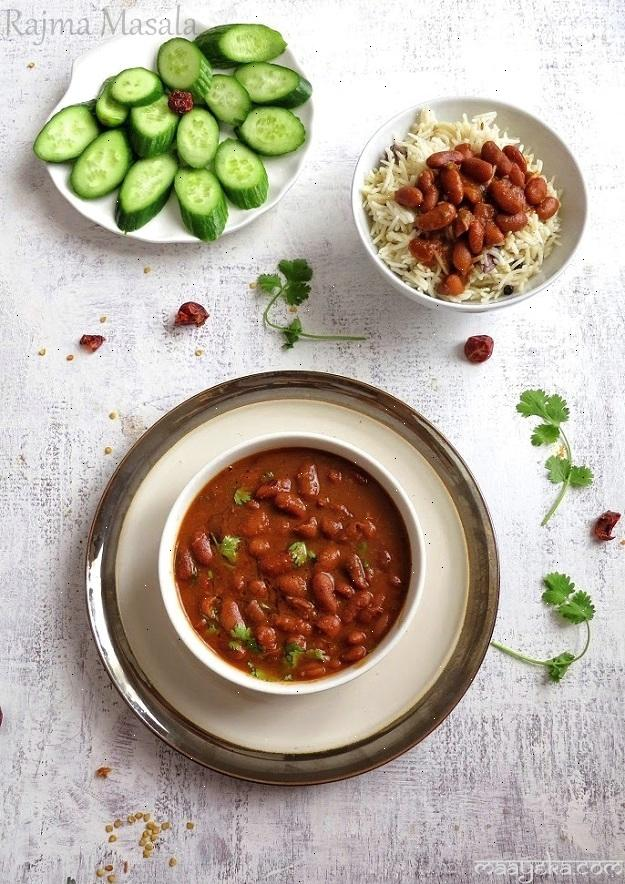rajma: (195, 455, 412, 690)
